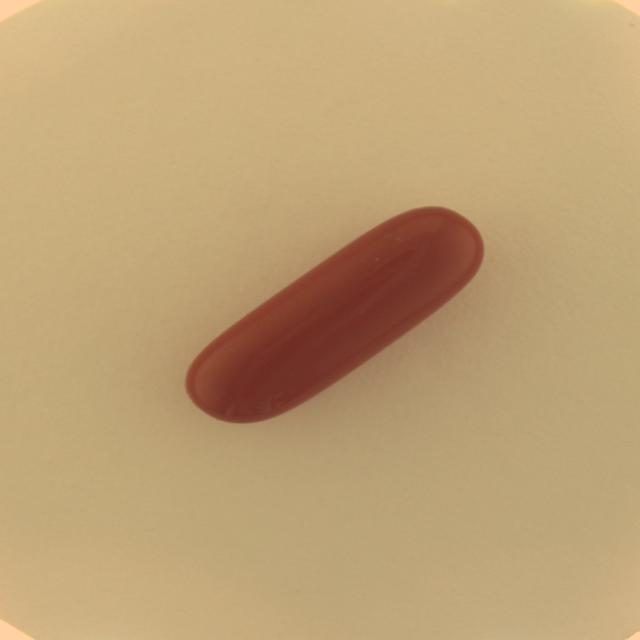Oval: (173, 200, 492, 430)
